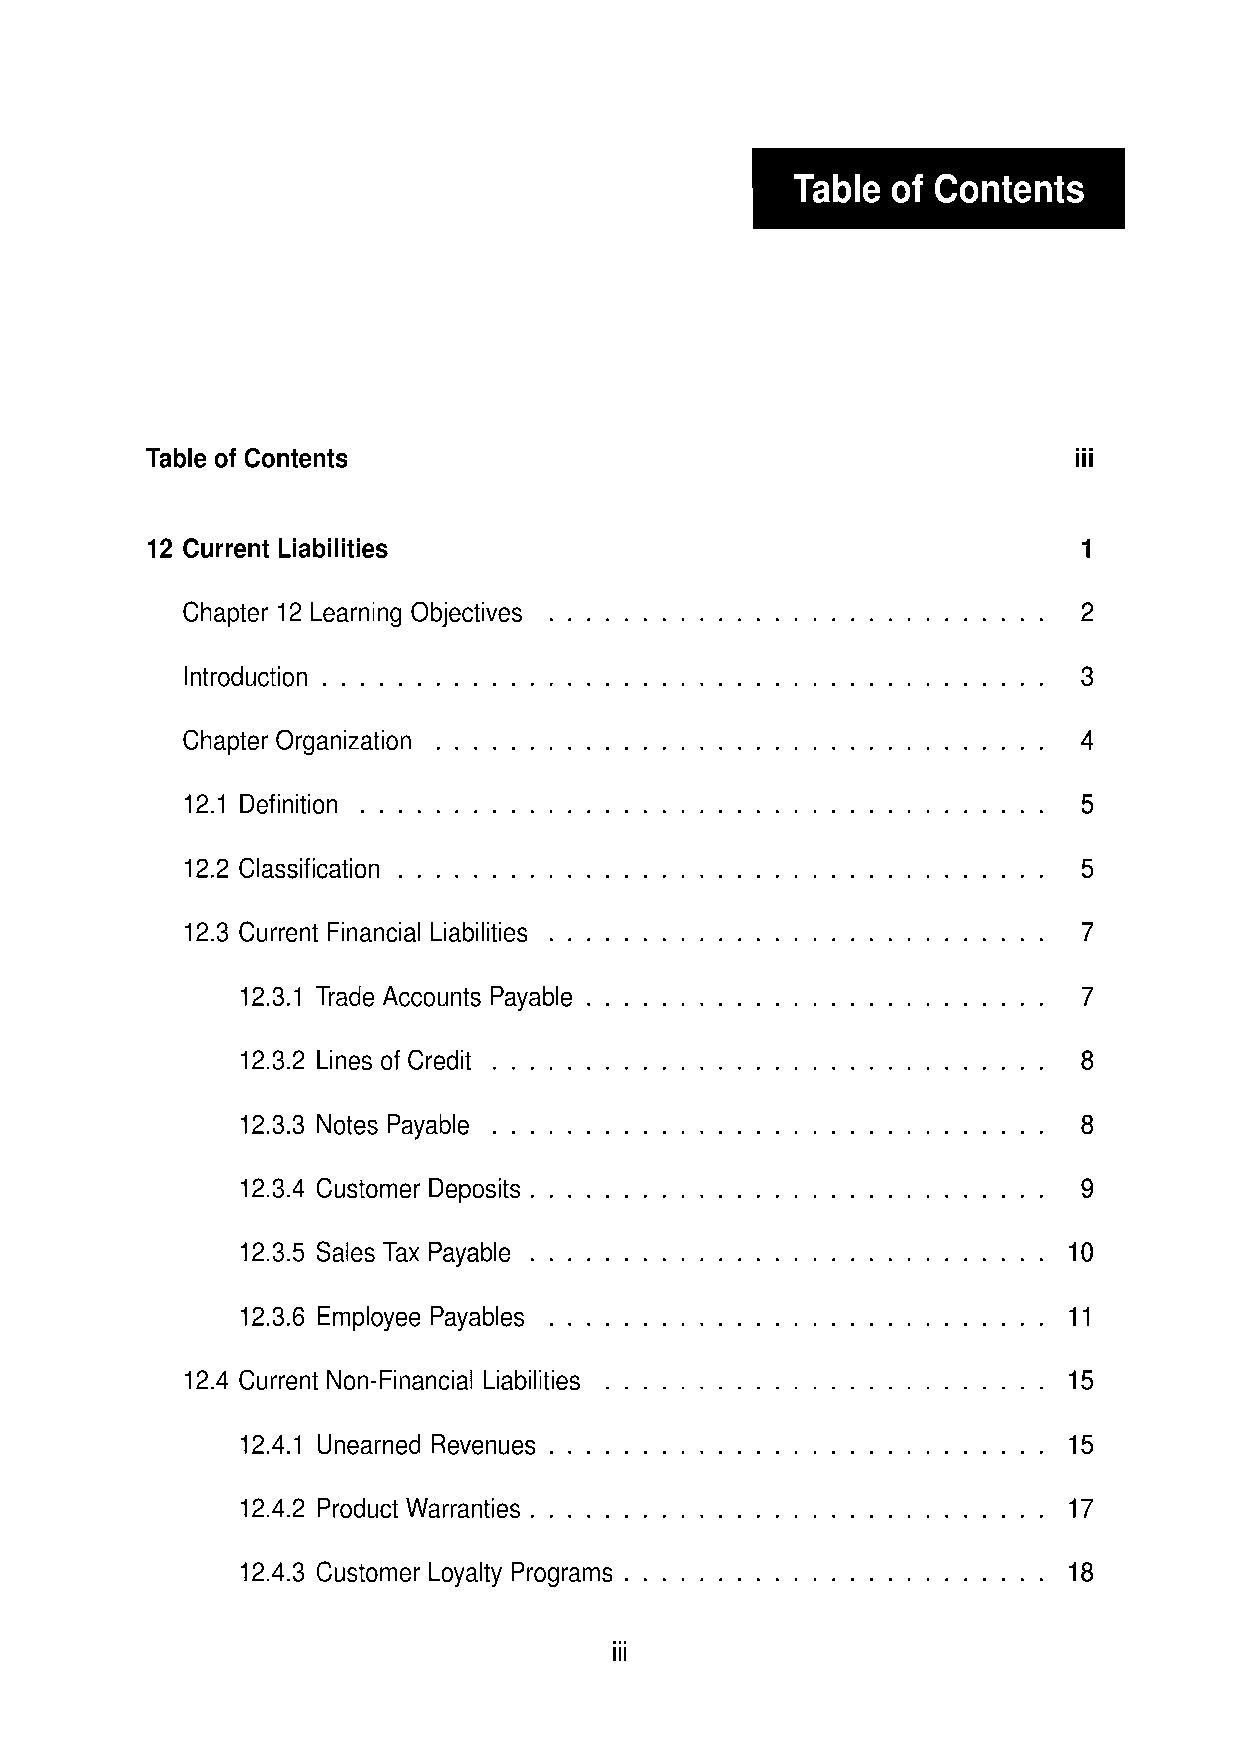TOC_chapter: (239, 1559, 615, 1589), (181, 596, 523, 628), (239, 982, 573, 1015), (184, 1366, 582, 1393), (183, 919, 530, 946), (238, 1302, 526, 1333), (240, 1431, 535, 1459), (239, 1239, 513, 1268), (239, 1176, 521, 1204), (144, 535, 392, 564), (238, 1496, 522, 1520), (180, 727, 415, 756), (238, 1113, 471, 1141), (144, 442, 349, 472), (183, 854, 382, 884), (240, 1048, 472, 1074), (183, 789, 340, 819), (183, 662, 313, 690)
TOC_pagenumber: (1067, 1431, 1096, 1457), (1067, 1239, 1094, 1266), (1067, 1366, 1095, 1390), (1070, 1494, 1095, 1519), (1067, 1559, 1094, 1584), (1072, 446, 1096, 468), (1076, 601, 1099, 624), (1068, 1304, 1091, 1327), (1076, 727, 1096, 752), (1078, 535, 1096, 560), (1076, 663, 1095, 687), (1078, 982, 1095, 1007), (1079, 1047, 1096, 1071), (1078, 1111, 1095, 1135), (1079, 918, 1095, 943), (1078, 1176, 1094, 1198), (1079, 790, 1094, 815), (1082, 854, 1095, 878)
chapter: (790, 170, 1086, 208)
